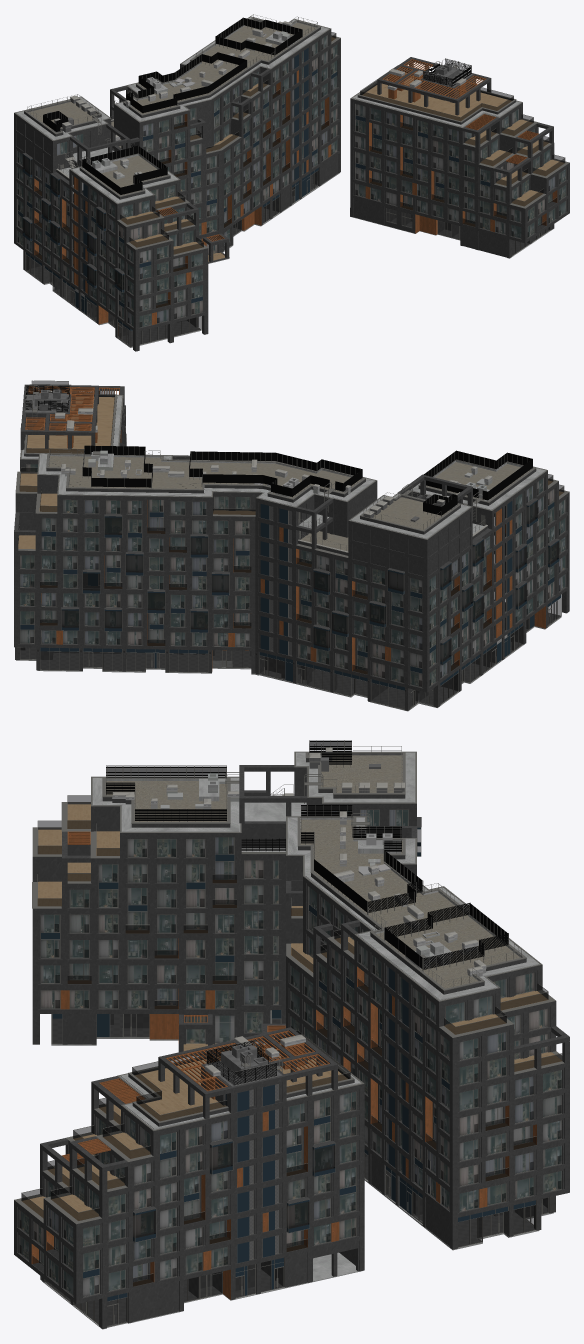
File: B10+bra.glb
The picture shows the model from 3 angles, top to bottom: view 1: azimuth 30°, elevation 25°; view 2: azimuth 150°, elevation 25°; view 3: azimuth 270°, elevation 25°; orthographic projection. The views are drawn at different scales.
Parts seen in each view (by area): view 1: SM_B10_Fasade_012, SM_B10_Fasade_005, SM_B10_Fasade_001, SM_B10_Fasade_010, SM_B10_Roof_002, SM_B10_Fasade_006, SM_B10_Roof_001, SM_B10_Roof_003, SM_B10_Fasade_002, SM_B10_Interior_fl1, SM_B10_Roof_004, SM_B10_Base_001; view 2: SM_B10_Fasade_008, SM_B10_Fasade_009, SM_B10_Fasade_001, SM_B10_Roof_002, SM_B10_Interior_fl1, SM_B10_Roof_001, SM_B10_Roof_003, SM_B10_Fasade_002, SM_B10_Roof_004, SM_B10_Fasade_007, SM_B10_Base_001; view 3: SM_B10_Fasade_003, SM_B10_Fasade_011, SM_B10_Fasade_012, SM_B10_Fasade_007, SM_B10_Roof_002, SM_B10_Fasade_006, SM_B10_Roof_001, SM_B10_Roof_003, SM_B10_Fasade_010, SM_B10_Roof_004, SM_B10_Interior_fl1, SM_B10_Fasade_002 (+2 smaller).
Boxes of the visible parts, x1=… form: SM_B10_Fasade_012: x1=139, y1=29, x2=340, y2=263; SM_B10_Fasade_005: x1=350, y1=98, x2=525, y2=258; SM_B10_Fasade_001: x1=14, y1=113, x2=135, y2=351; SM_B10_Fasade_010: x1=117, y1=180, x2=208, y2=351; SM_B10_Roof_002: x1=110, y1=14, x2=330, y2=147; SM_B10_Fasade_006: x1=462, y1=102, x2=569, y2=257; SM_B10_Roof_001: x1=350, y1=57, x2=522, y2=128; SM_B10_Roof_003: x1=53, y1=138, x2=180, y2=204; SM_B10_Fasade_002: x1=53, y1=85, x2=139, y2=184; SM_B10_Interior_fl1: x1=27, y1=171, x2=549, y2=346; SM_B10_Roof_004: x1=14, y1=94, x2=110, y2=140; SM_B10_Base_001: x1=25, y1=173, x2=339, y2=347; SM_B10_Fasade_008: x1=14, y1=492, x2=261, y2=673; SM_B10_Fasade_009: x1=255, y1=498, x2=433, y2=710; SM_B10_Fasade_001: x1=427, y1=470, x2=569, y2=707; SM_B10_Roof_002: x1=37, y1=445, x2=376, y2=557; SM_B10_Interior_fl1: x1=20, y1=600, x2=559, y2=708; SM_B10_Roof_001: x1=20, y1=380, x2=123, y2=459; SM_B10_Roof_003: x1=410, y1=450, x2=547, y2=543; SM_B10_Fasade_002: x1=296, y1=474, x2=489, y2=549; SM_B10_Roof_004: x1=348, y1=484, x2=472, y2=539; SM_B10_Fasade_007: x1=14, y1=467, x2=58, y2=659; SM_B10_Base_001: x1=16, y1=616, x2=561, y2=711; SM_B10_Fasade_003: x1=76, y1=1075, x2=364, y2=1328; SM_B10_Fasade_011: x1=32, y1=833, x2=285, y2=1055; SM_B10_Fasade_012: x1=262, y1=855, x2=452, y2=1249; SM_B10_Fasade_007: x1=439, y1=965, x2=569, y2=1249; SM_B10_Roof_002: x1=241, y1=805, x2=542, y2=1001; SM_B10_Fasade_006: x1=14, y1=1076, x2=153, y2=1326; SM_B10_Roof_001: x1=117, y1=1027, x2=364, y2=1131; SM_B10_Roof_003: x1=91, y1=765, x2=306, y2=832; SM_B10_Fasade_010: x1=32, y1=795, x2=119, y2=1043; SM_B10_Roof_004: x1=294, y1=740, x2=416, y2=803; SM_B10_Interior_fl1: x1=46, y1=1010, x2=548, y2=1325; SM_B10_Fasade_002: x1=239, y1=765, x2=416, y2=847.
Bounding box in the file's own units: 102 × 35.02 × 68.92.
Materials: 28 (22 with a texture image).
